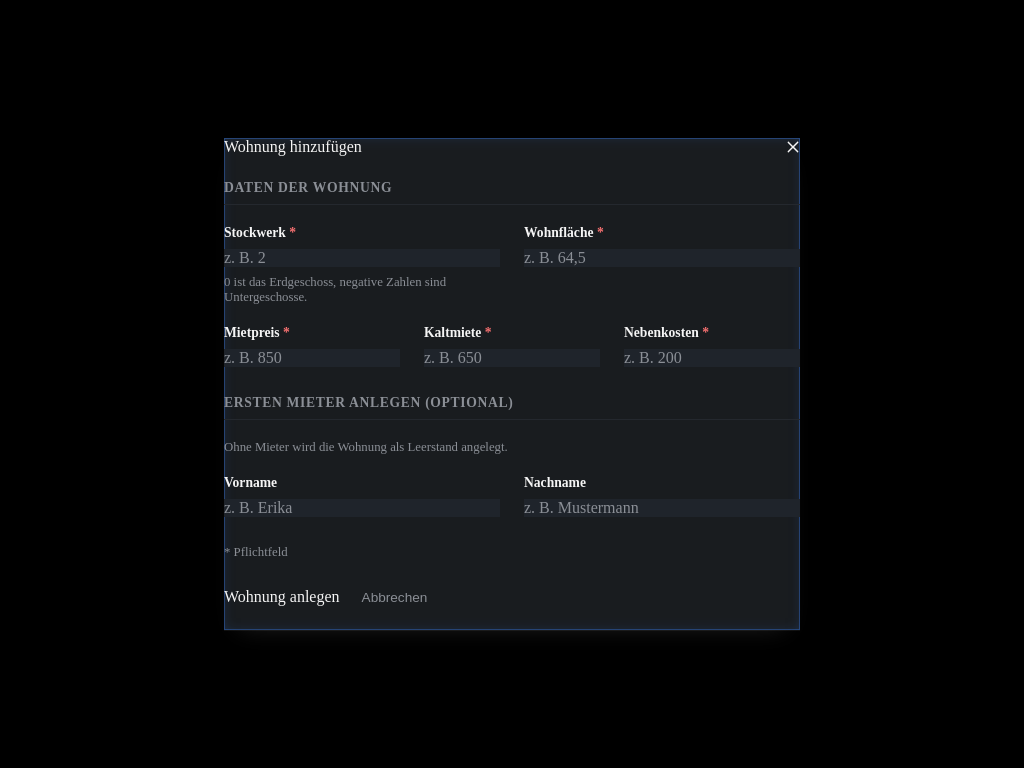
Scenario: ApartmentFormDialog › creating an apartment › shows the localized message the backend gave for a failed save
Type "2" into the number field with id "apartment-floor" at (362, 258), box [224,249,500,267]
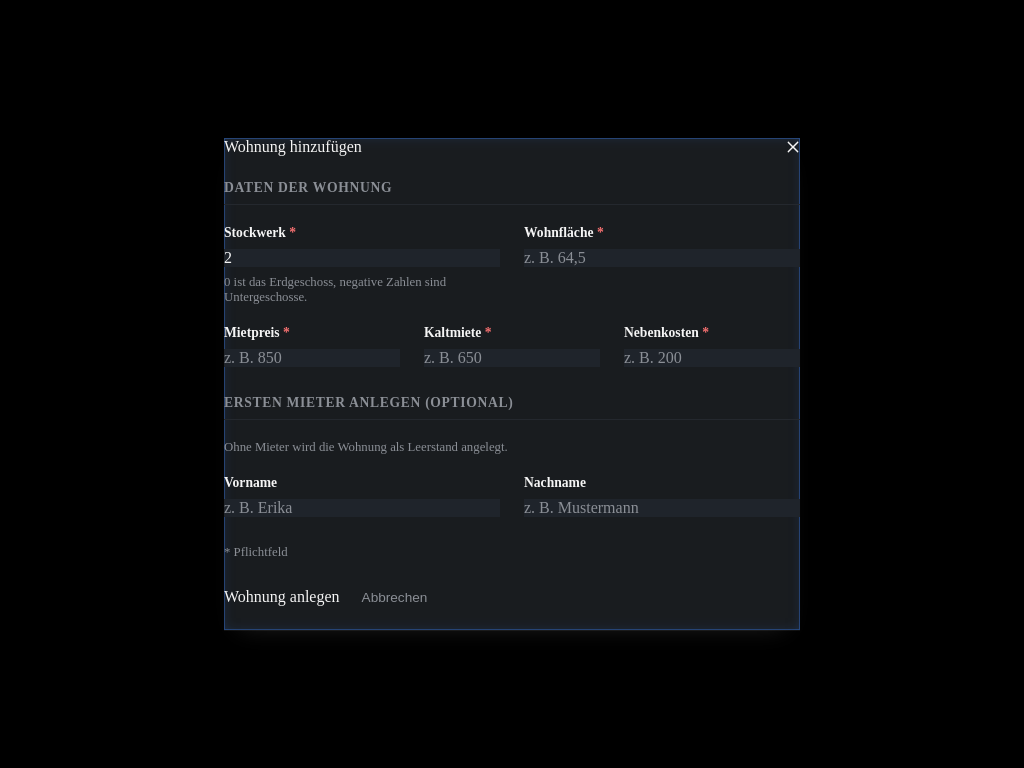
Type "64,5" into the number field with id "apartment-area" at (662, 258), box [524,249,800,267]
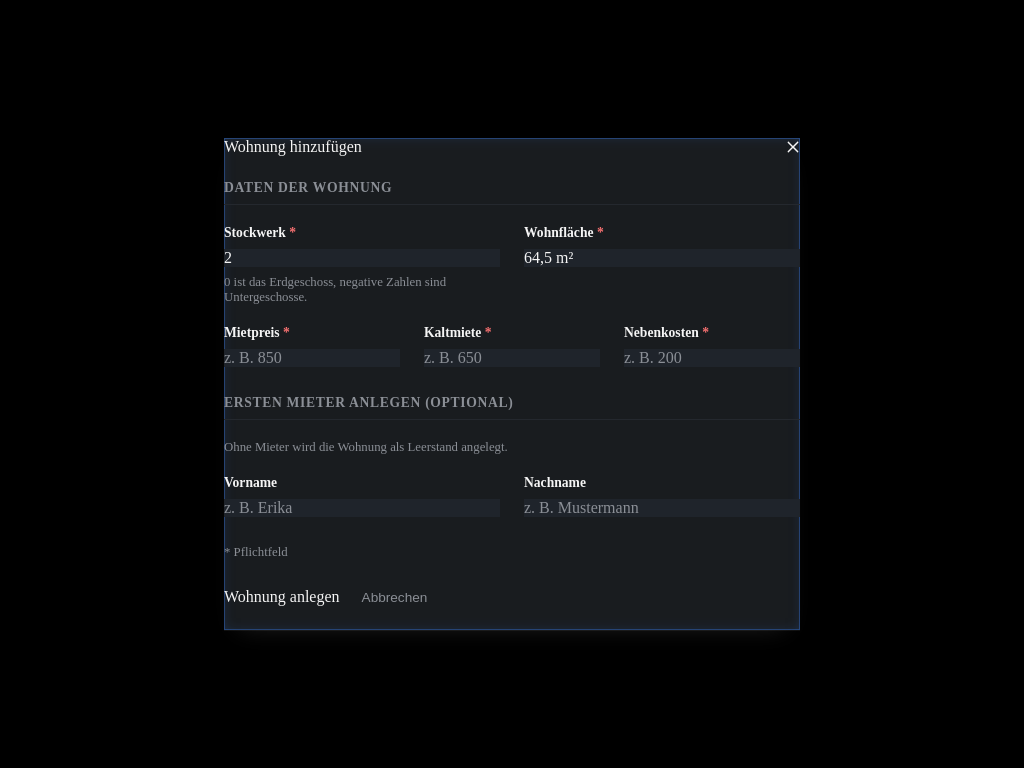
Type "850" into the number field with id "apartment-totalRent" at (312, 358), box [224,349,400,367]
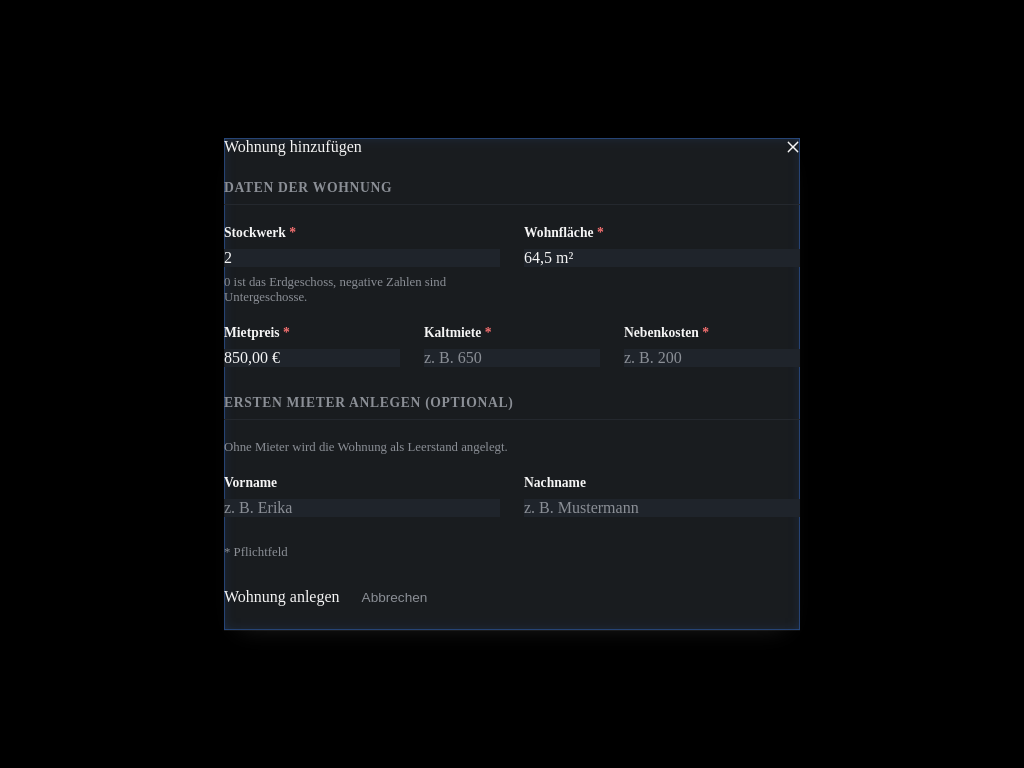
Type "650" into the number field with id "apartment-coldRent" at (512, 358), box [424,349,600,367]
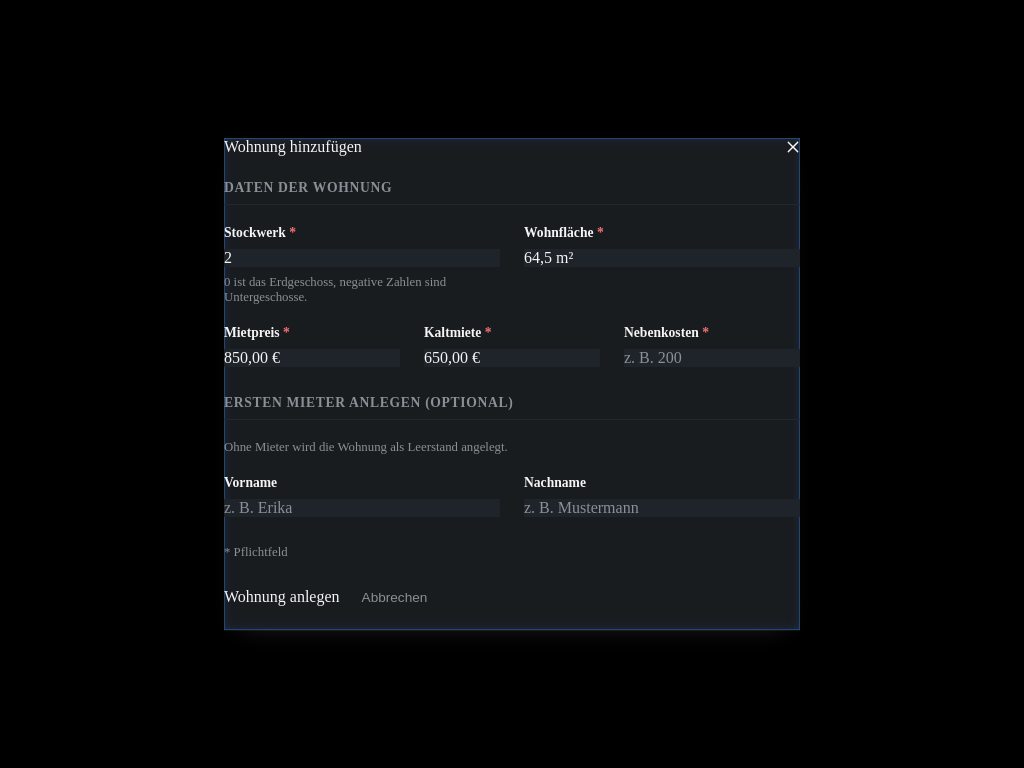
Type "200" into the number field with id "apartment-additionalCosts" at (712, 358), box [624,349,800,367]
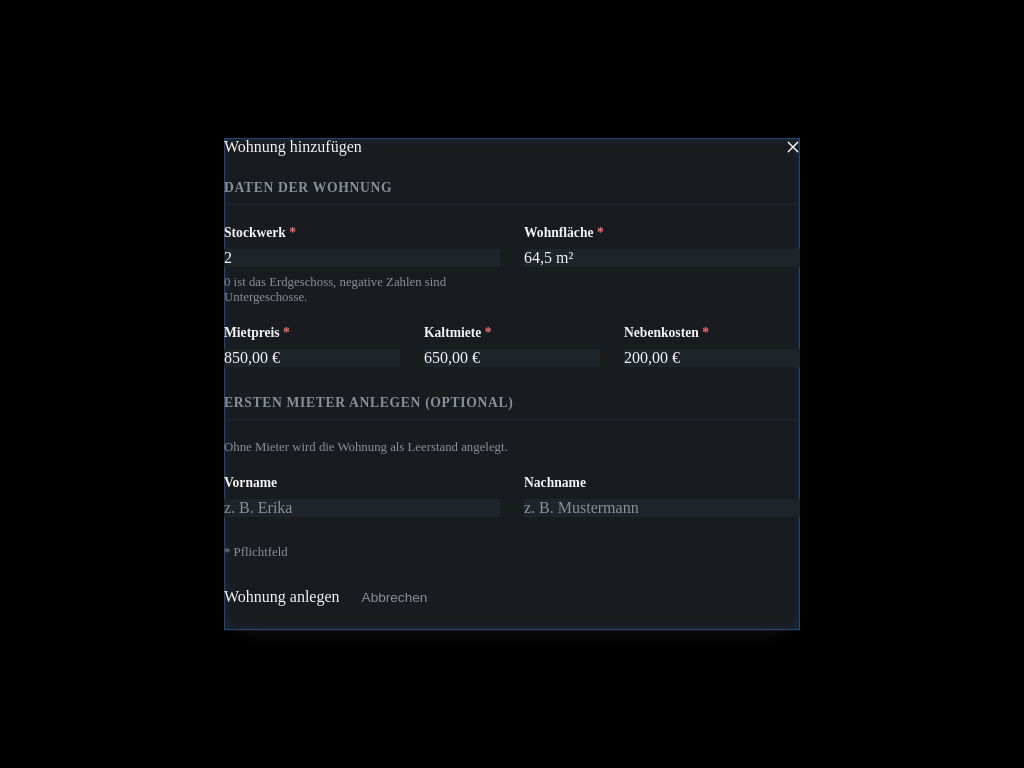
Click the button "Wohnung anlegen" at (282, 597), box [224,588,340,606]
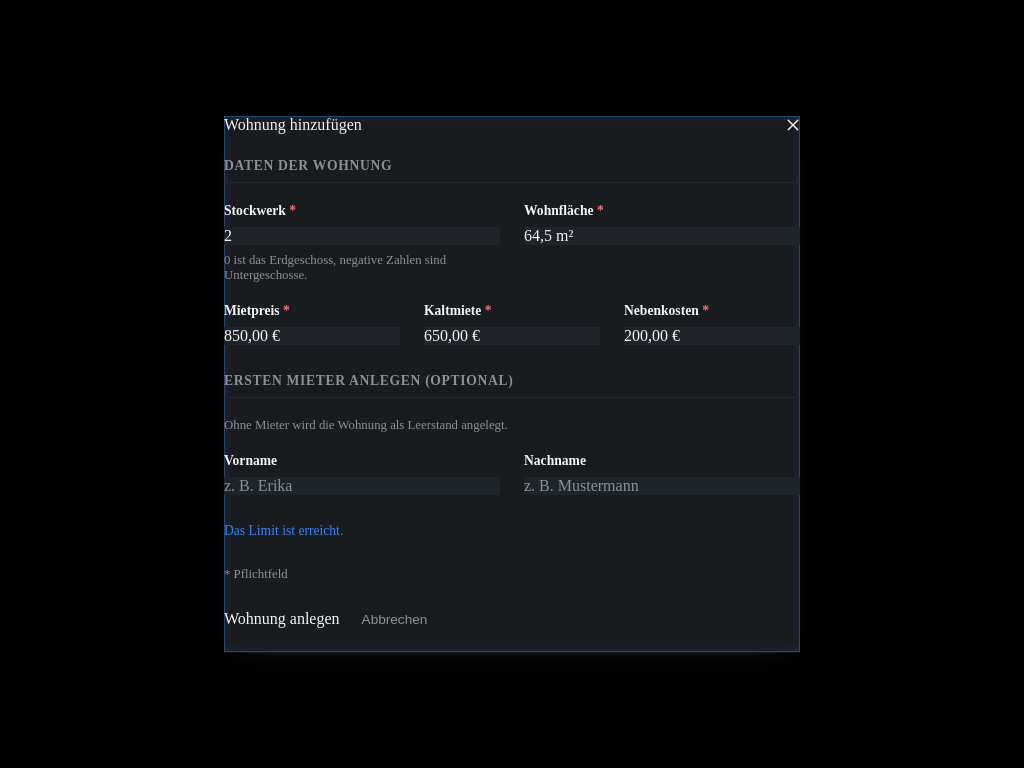
expect the text with class "apartment-form-dialog__error" reads "Das Limit ist erreicht.": met, box [224,523,343,538]
